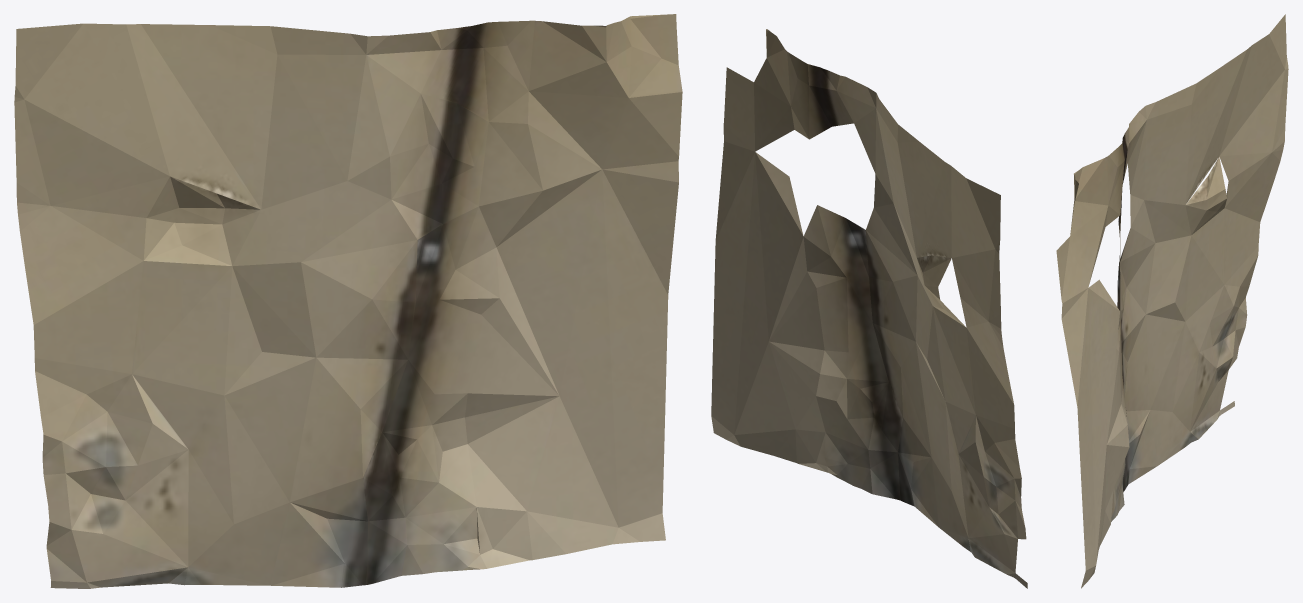
3 renders of one model, left to right at view 1: azimuth 30°, elevation 25°; view 2: azimuth 150°, elevation 25°; view 3: azimuth 270°, elevation 25°, orthographic. The views are drawn at different scales.
Bounding box in the file's own units: 1.67 × 1.67 × 0.8984.
Materials: 3 (3 with a texture image).
